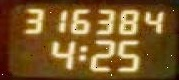1: (56, 9, 67, 33)
2: (85, 37, 114, 71)
3: (92, 8, 114, 34), (22, 6, 42, 33)
4: (47, 39, 74, 69), (141, 10, 162, 32)
5: (114, 38, 137, 71)
6: (67, 8, 89, 34)
8: (116, 8, 137, 34)
X: (76, 44, 86, 60)
